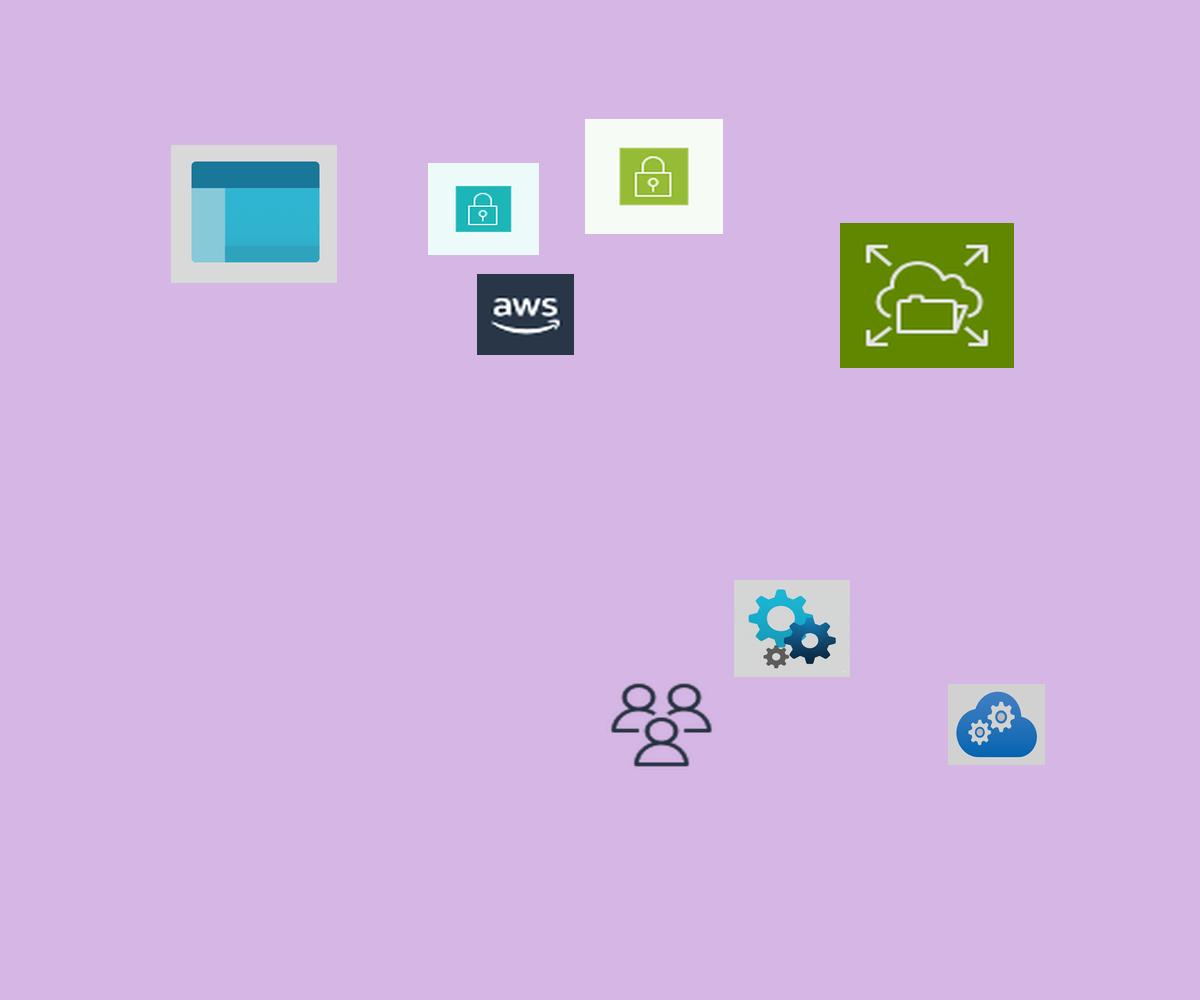AWS-Cloud-logo: (477, 274, 574, 355)
AWS-EFS: (840, 223, 1014, 368)
AWS-Private-subnet: (428, 163, 539, 255)
AWS-Public-subnet: (585, 119, 723, 234)
AWS-Res_Users: (607, 680, 716, 770)
Azure_api: (734, 580, 850, 677)
Azure_cloud_services: (948, 684, 1045, 765)
Azure_management-portal: (171, 145, 337, 283)
